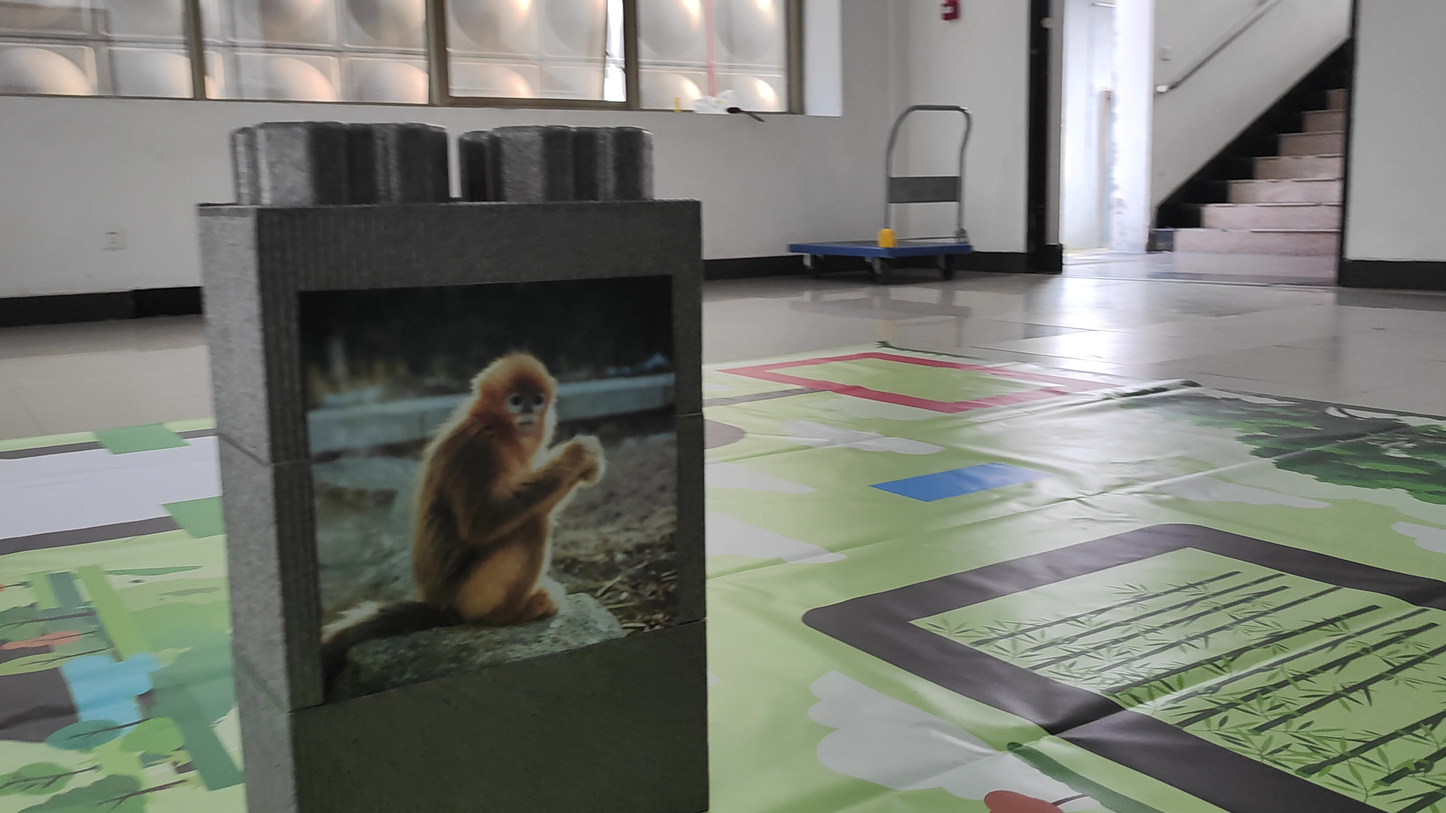monkey: (323, 307, 603, 672)
